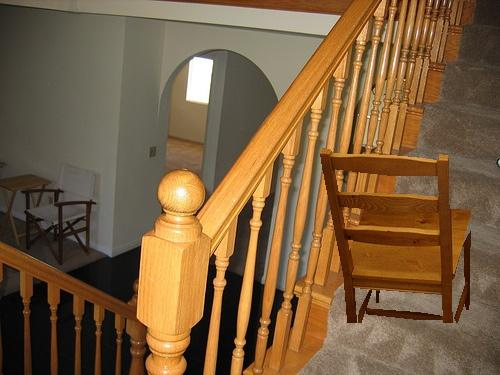tampered: (321, 149, 471, 323)
